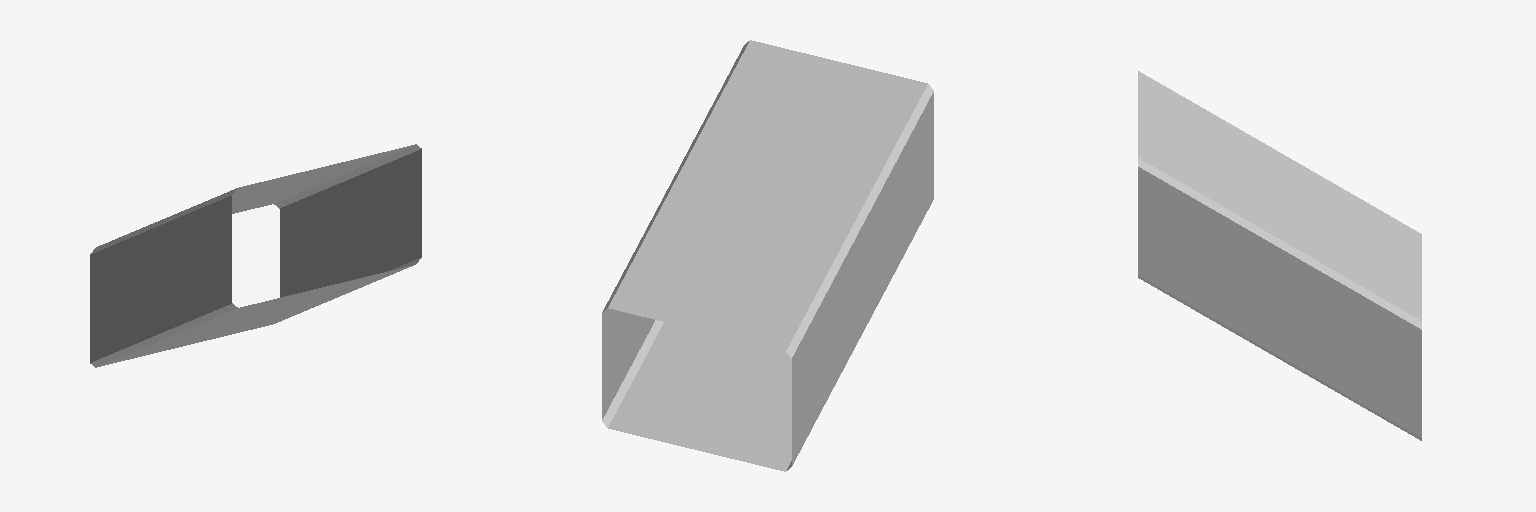
File: upwards vent.obj
The picture shows the model from 3 angles: view 1: azimuth 30°, elevation 25°; view 2: azimuth 150°, elevation 25°; view 3: azimuth 270°, elevation 25°; orthographic projection.
Visible parts, largest first — view 1: pCube26 vents; view 2: pCube26 vents; view 3: pCube26 vents.
Boxes of the visible parts, x1=… form: pCube26 vents: x1=90, y1=144, x2=421, y2=367; pCube26 vents: x1=602, y1=40, x2=933, y2=471; pCube26 vents: x1=1138, y1=71, x2=1421, y2=440.
Size of the model in its own units: 154 by 220 by 200.